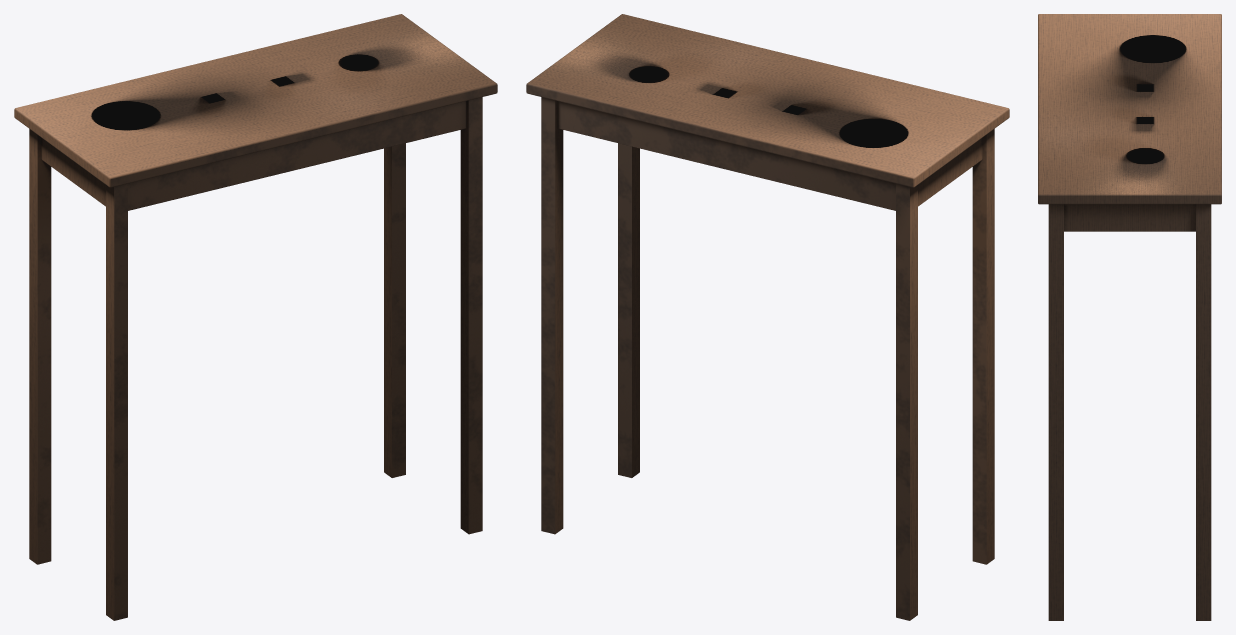
The model's file is 816_cond.glb.
The picture shows the model from 3 angles, left to right: view 1: azimuth 30°, elevation 25°; view 2: azimuth 150°, elevation 25°; view 3: azimuth 270°, elevation 25°; orthographic projection. The views are drawn at different scales.
Parts seen in each view (by area): view 1: Table; view 2: Table; view 3: Table.
Boxes of the visible parts, <box> form: Table: <box>14,14,497,620</box>; Table: <box>526,14,1009,620</box>; Table: <box>1038,14,1221,620</box>.
Size of what is drawn, in the model's own units: 2.8 by 3.1 by 1.2.
Materials: 1 (1 with a texture image).
